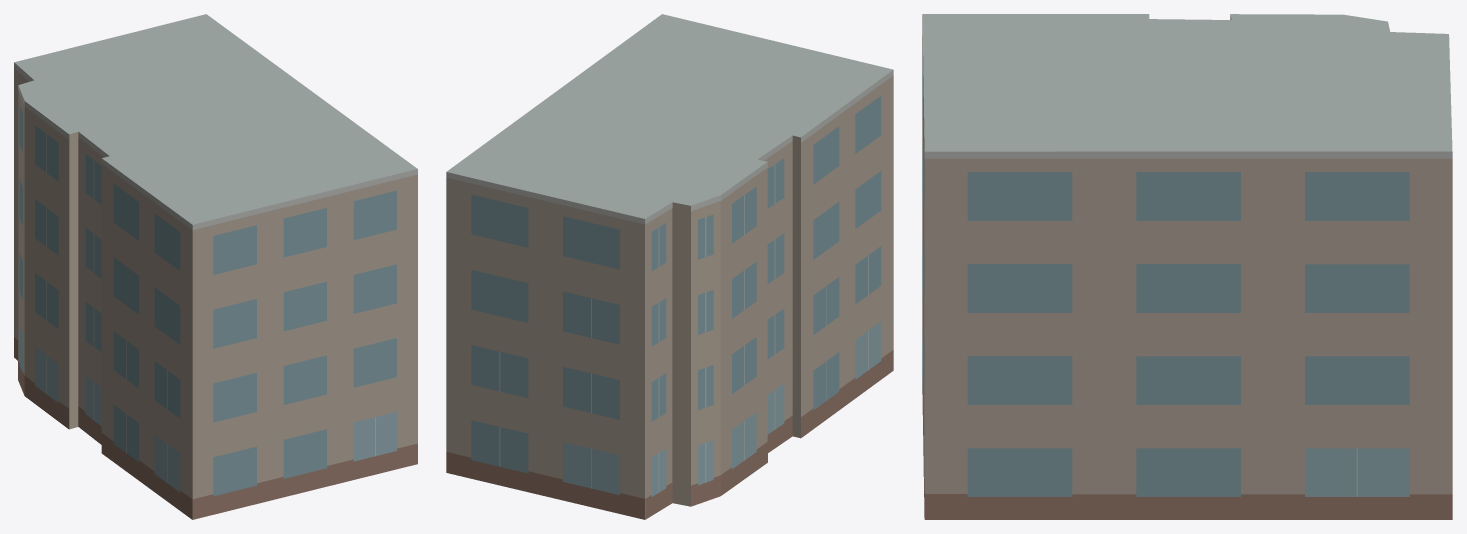
File: survey-upis-32607489.glb
3 renders of one model, left to right at view 1: azimuth 30°, elevation 25°; view 2: azimuth 150°, elevation 25°; view 3: azimuth 270°, elevation 25°, orthographic. The views are drawn at different scales.
Parts seen in each view (by area): view 1: survey-upis-32607489.tmp; view 2: survey-upis-32607489.tmp; view 3: survey-upis-32607489.tmp.
Boxes of the visible parts, x1,y1,x2,y2 form: survey-upis-32607489.tmp: [14, 14, 417, 519]; survey-upis-32607489.tmp: [446, 14, 893, 519]; survey-upis-32607489.tmp: [922, 14, 1452, 519].
Size of the model in its own units: 10.55 by 13.13 by 17.15.
